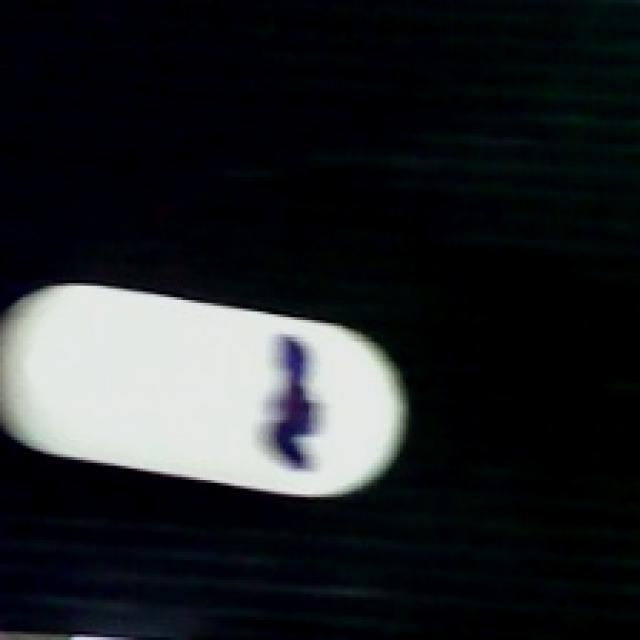defected: (0, 280, 411, 503)
